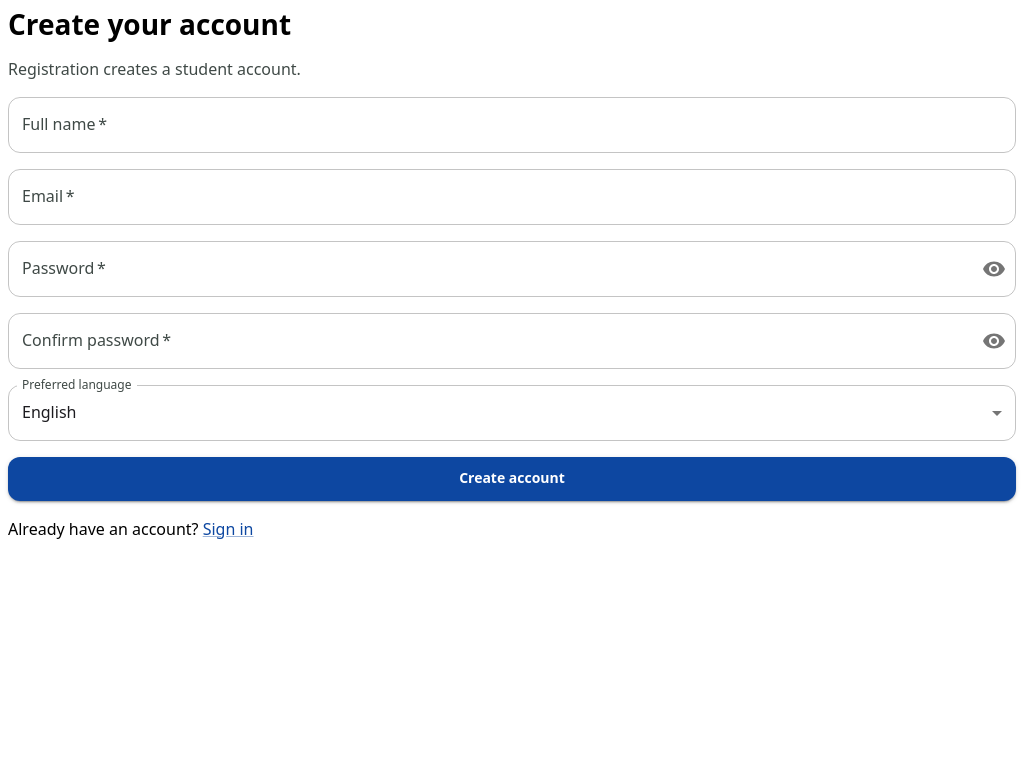
Scenario: authentication forms › blocks registration when passwords do not match
Expected: the button "Create account" is shown, [8, 457, 1016, 501]
Type "Student User" into the field labelled "Full name *".
click(512, 125); type("Student User")  # box [8, 97, 1016, 153]
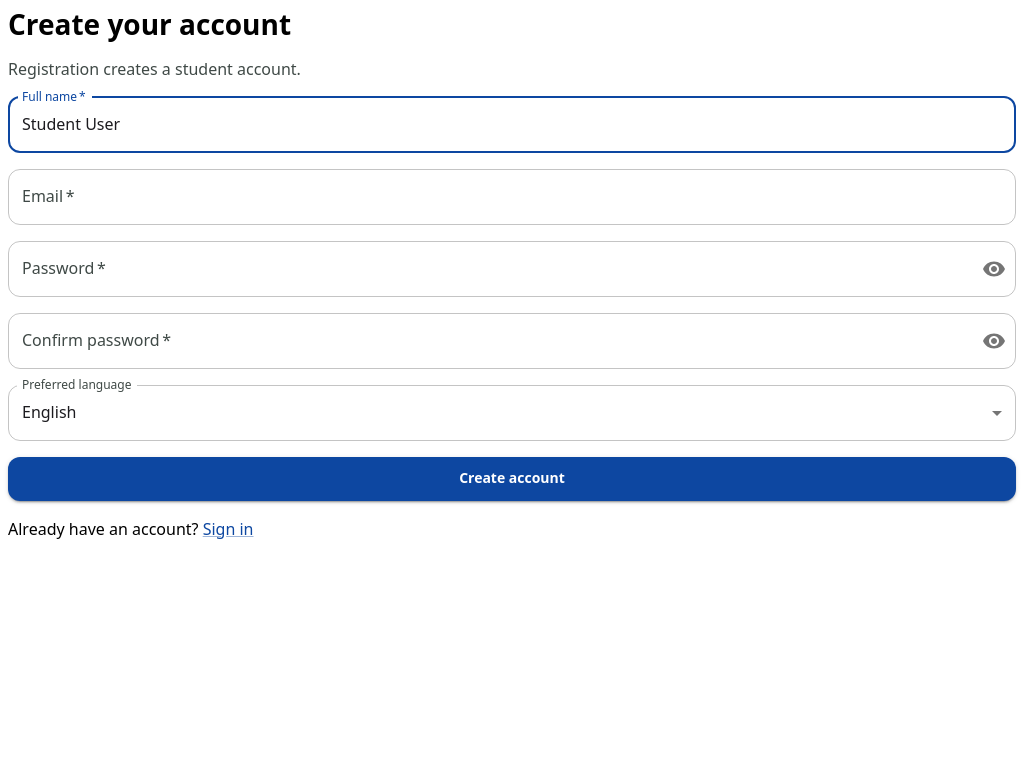
Type "student@example.com" into the field labelled "Email *".
click(512, 197); type("student@example.com")  # box [8, 169, 1016, 225]
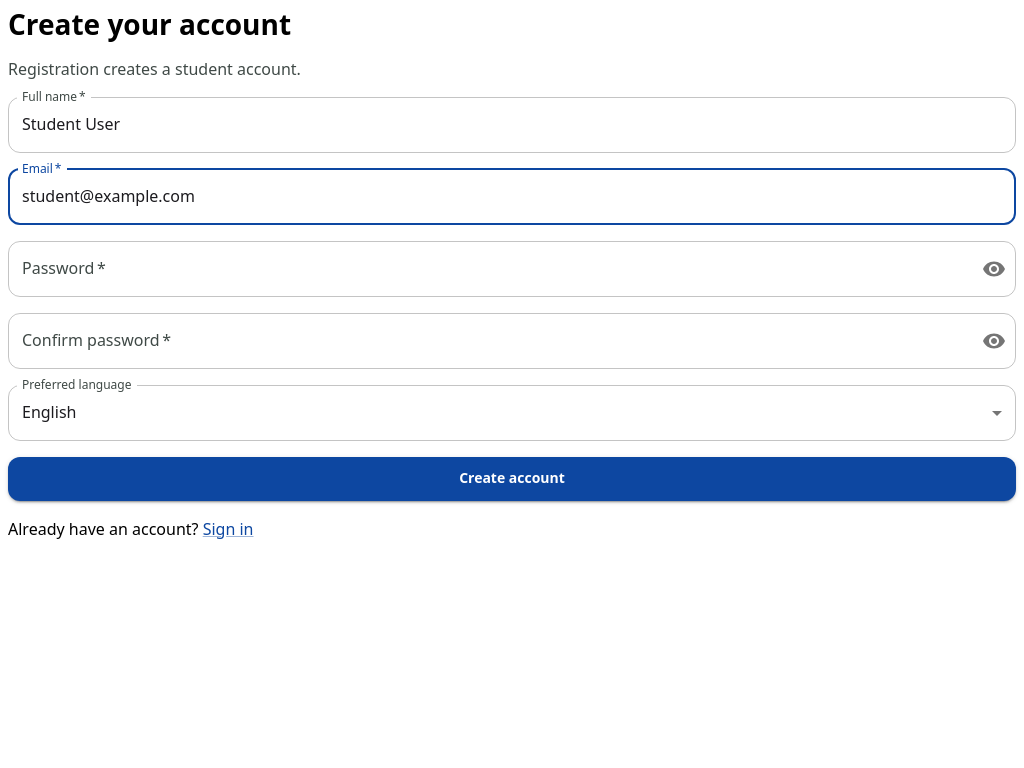
Type "ValidPass1!" into the password field labelled "Password *".
click(487, 269); type("ValidPass1!")  # box [8, 241, 966, 297]
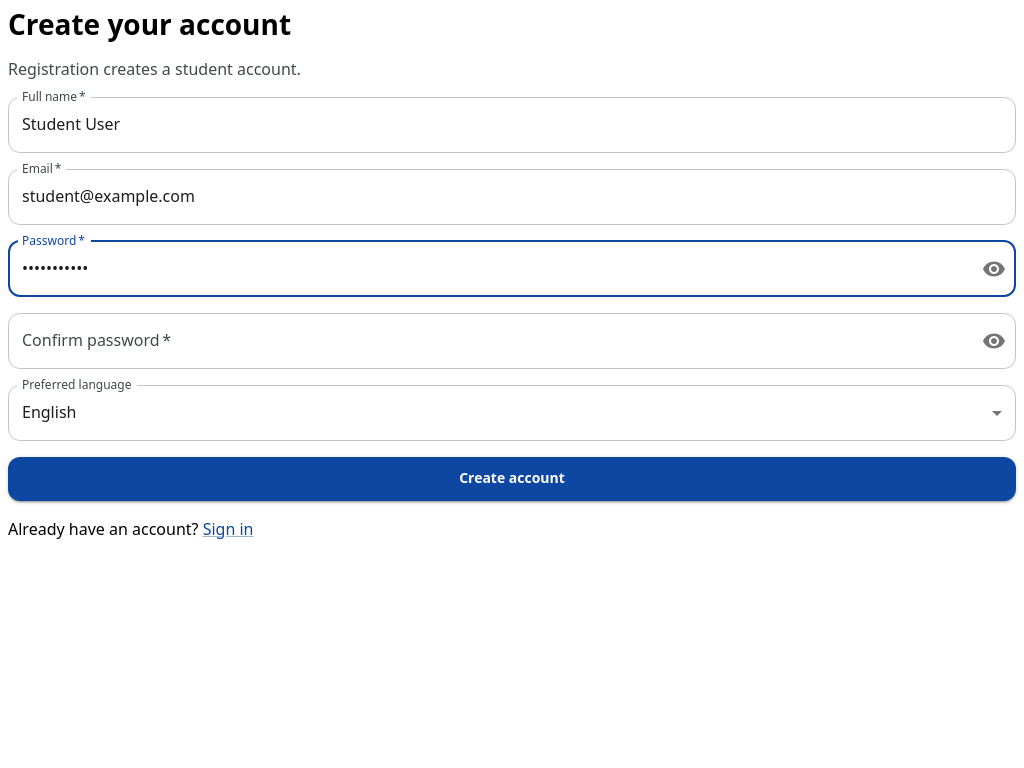
Type "OtherPass1!" into the password field labelled "Confirm password *".
click(487, 341); type("OtherPass1!")  # box [8, 313, 966, 369]
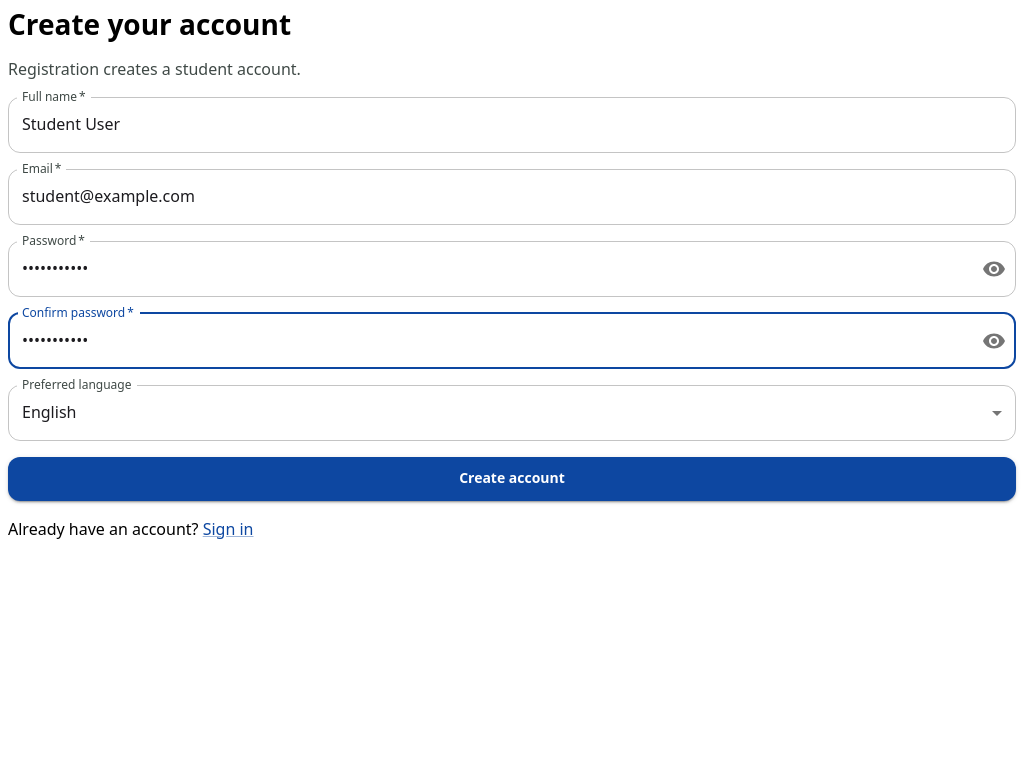
Click the button "Create account".
click(512, 479)  # box [8, 457, 1016, 501]
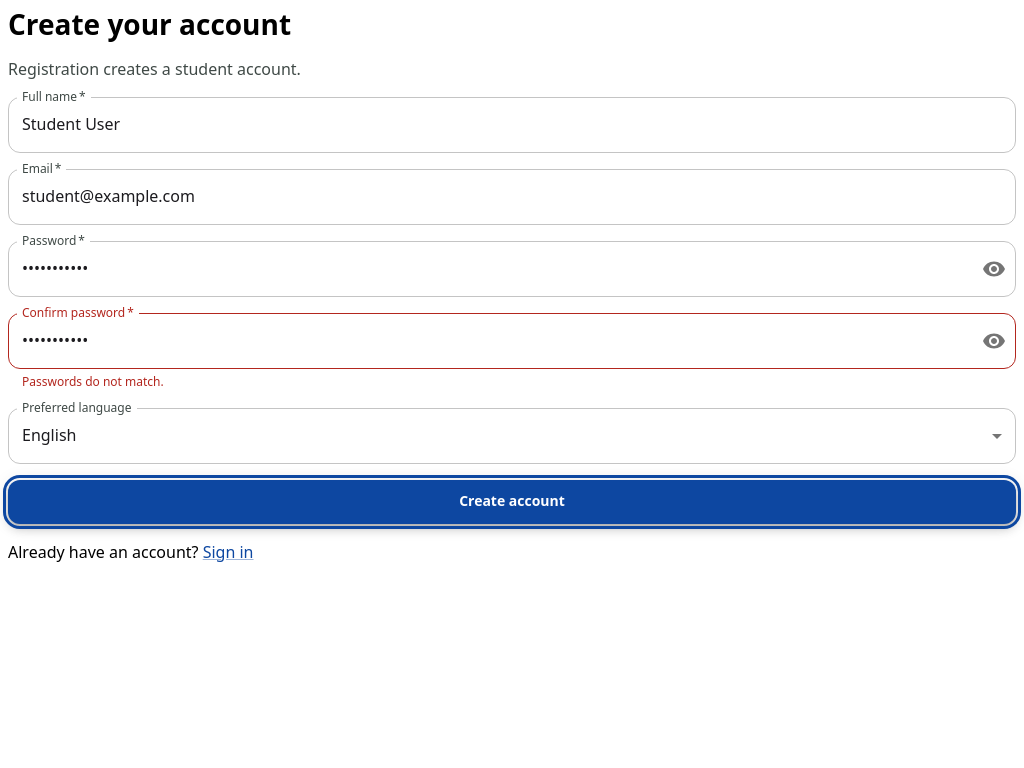
Expected: the text "Passwords do not match." is shown, [22, 373, 164, 390]
